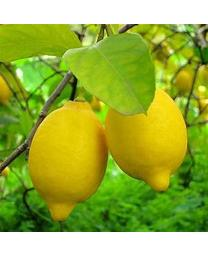lemon: (29, 97, 109, 219), (105, 89, 189, 191)
